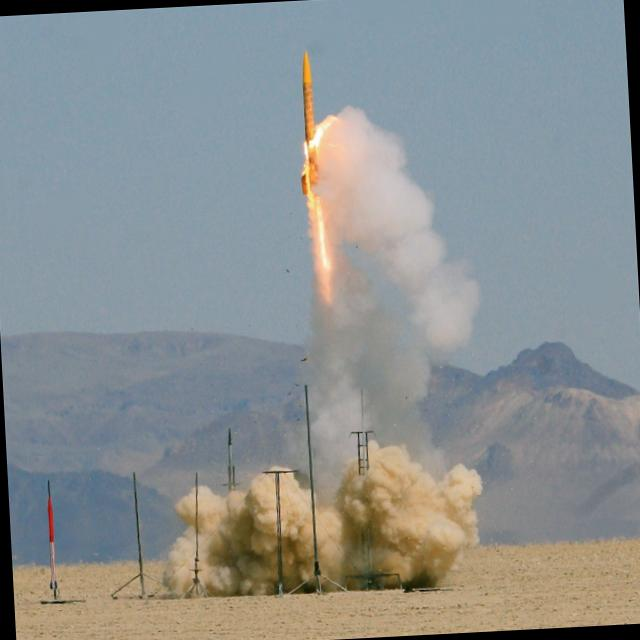rocket: (284, 53, 344, 297)
